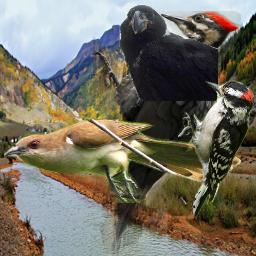Crow: (118, 4, 218, 101)
Cuckoo: (4, 119, 243, 203)
Woodpecker: (93, 11, 241, 254), (178, 78, 254, 218)
